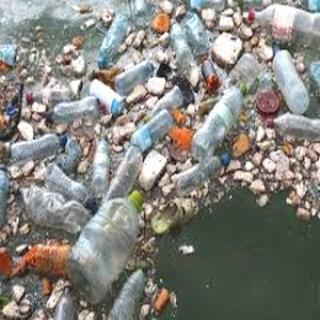Plastic: (66, 191, 148, 306), (192, 85, 245, 158), (245, 2, 320, 43), (23, 187, 89, 233), (270, 42, 312, 113), (108, 136, 145, 203), (174, 146, 230, 190), (107, 265, 150, 320), (139, 133, 176, 191), (0, 130, 61, 165), (128, 108, 174, 154), (43, 158, 90, 202), (94, 12, 130, 67), (221, 52, 263, 95), (266, 109, 320, 141), (113, 58, 156, 95), (89, 72, 126, 114), (23, 243, 73, 274), (145, 81, 186, 117), (183, 6, 211, 58), (92, 135, 114, 196), (207, 30, 246, 63), (51, 94, 99, 119), (166, 16, 190, 63), (56, 294, 76, 320)
Trash: (149, 197, 198, 234), (0, 285, 35, 320), (220, 6, 243, 31), (0, 43, 20, 65)
